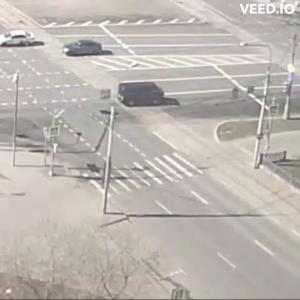car: (119, 85, 169, 109), (65, 42, 113, 59), (2, 31, 46, 49)
